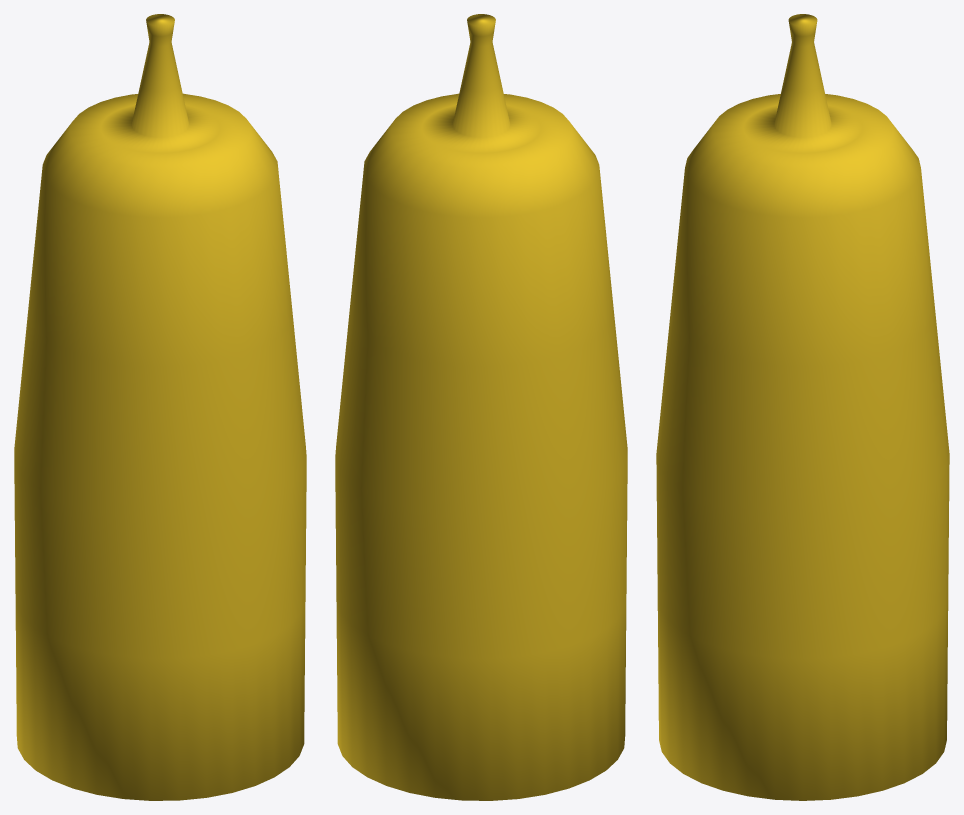
The model's file is mustard.fbx.
3 renders of one model, left to right at view 1: azimuth 30°, elevation 25°; view 2: azimuth 150°, elevation 25°; view 3: azimuth 270°, elevation 25°, orthographic.
Parts seen in each view (by area): view 1: Cylinder.009; view 2: Cylinder.009; view 3: Cylinder.009.
Boxes of the visible parts, bbox=[...] form: Cylinder.009: bbox=[14, 14, 306, 800]; Cylinder.009: bbox=[335, 14, 627, 800]; Cylinder.009: bbox=[656, 14, 949, 800].
Bounding box in the file's own units: 17.78 × 48.17 × 17.78.
